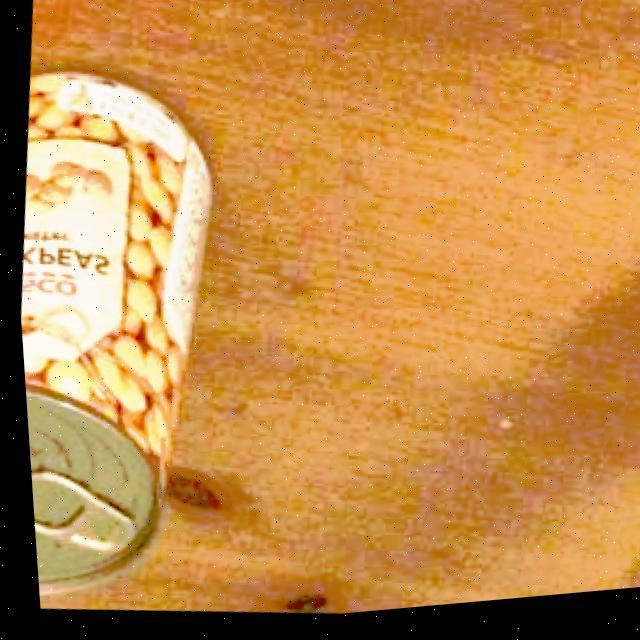Lata: (22, 71, 213, 588)
